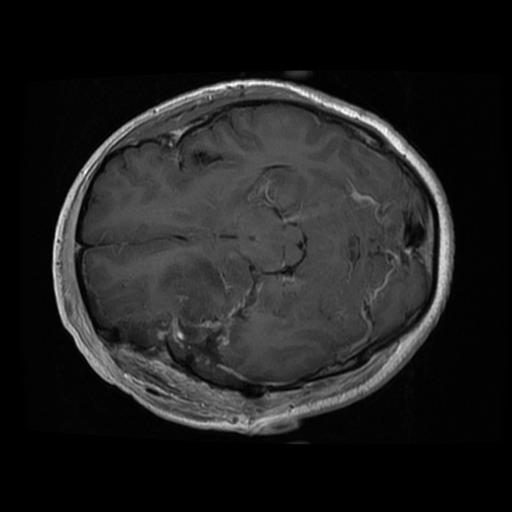glioma: (154, 249, 255, 384)
